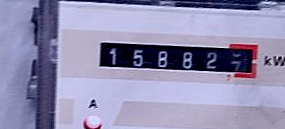1: (105, 44, 118, 64)
2: (204, 49, 217, 68)
5: (130, 46, 143, 66)
7: (228, 57, 240, 72)
8: (154, 46, 168, 68), (179, 48, 193, 70)
screen: (89, 27, 267, 85)
